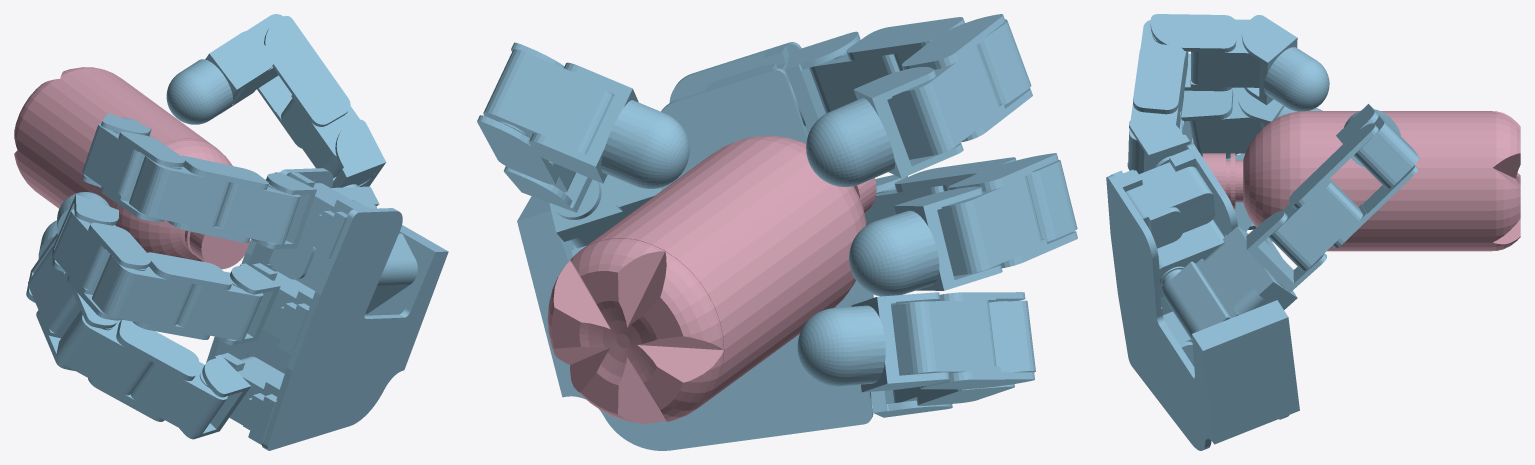
The picture shows the model from 3 angles, left to right: view 1: azimuth 30°, elevation 25°; view 2: azimuth 150°, elevation 25°; view 3: azimuth 270°, elevation 25°; orthographic projection. The views are drawn at different scales.
Visible parts, largest first — view 1: world; view 2: world; view 3: world.
Part boxes in pixels (left/top/right/bottom): world: left=14, top=14, right=448, bottom=450; world: left=477, top=14, right=1077, bottom=450; world: left=1106, top=14, right=1520, bottom=450.
Bounding box in the file's own units: 0.1842 × 0.1569 × 0.1778.
